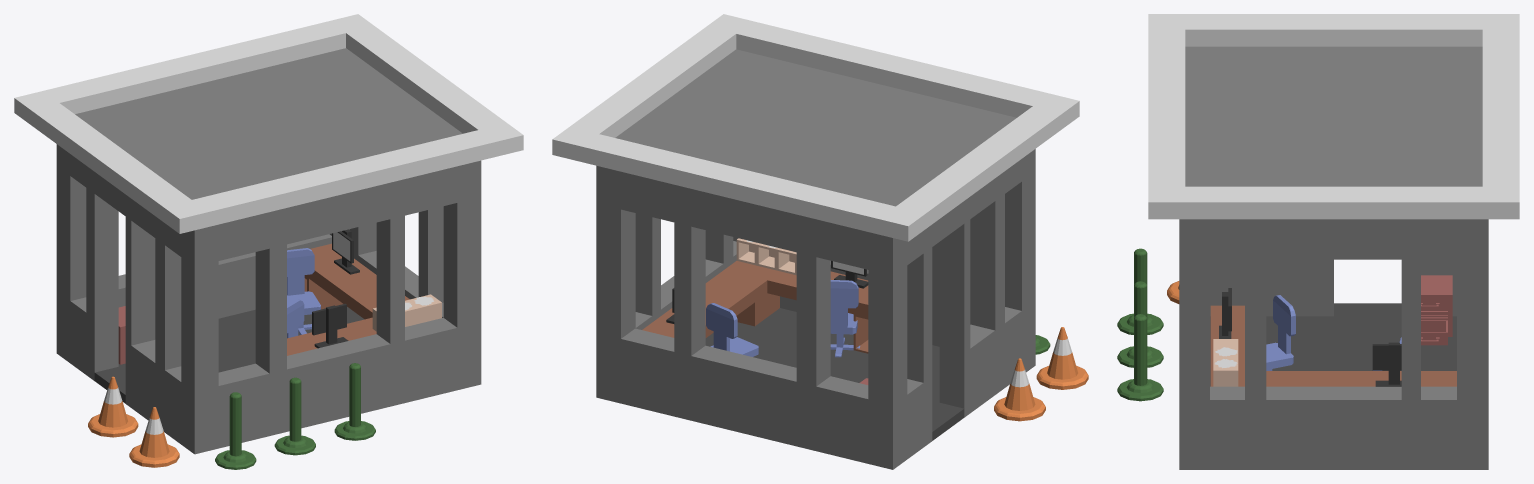
Rendered from Security_Booth 1.fbx.
3 views of the same model, side by side, from view 1: azimuth 30°, elevation 25°; view 2: azimuth 150°, elevation 25°; view 3: azimuth 270°, elevation 25° (orthographic). The views are drawn at different scales.
Parts seen in each view (by area): view 1: Shell, Roof, Desk, Floor, Chair1, Pylon1, Pylon, Security_Cones3, Security_Cones2, Security_Cones1, Computer.001, shelf (+2 smaller); view 2: Shell, Roof, Desk, Floor, Chair2, Pylon, Pylon1, Chair1, shelf; view 3: Shell, Roof, Floor, Desk, Drawer, Security_Cones1, Chair2, Computer, Security_Cones2, Security_Cones3, shelf, Computer.001.
Boxes of the visible parts, bbox=[...] form: Shell: bbox=[56, 48, 481, 454]; Roof: bbox=[14, 14, 523, 233]; Desk: bbox=[287, 243, 409, 355]; Floor: bbox=[94, 307, 364, 403]; Chair1: bbox=[287, 248, 320, 334]; Pylon1: bbox=[88, 376, 138, 437]; Pylon: bbox=[129, 407, 179, 467]; Security_Cones3: bbox=[215, 392, 256, 469]; Security_Cones2: bbox=[274, 377, 315, 455]; Security_Cones1: bbox=[334, 363, 375, 440]; Computer.001: bbox=[312, 303, 348, 348]; shelf: bbox=[372, 294, 441, 331]; Shell: bbox=[596, 49, 1035, 469]; Roof: bbox=[552, 14, 1079, 241]; Desk: bbox=[642, 261, 868, 353]; Floor: bbox=[705, 308, 964, 440]; Chair2: bbox=[830, 280, 860, 357]; Pylon: bbox=[1036, 327, 1088, 389]; Pylon1: bbox=[994, 358, 1045, 421]; Chair1: bbox=[706, 303, 758, 356]; shelf: bbox=[736, 238, 796, 275]; Shell: bbox=[1179, 46, 1488, 469]; Roof: bbox=[1148, 14, 1519, 219]; Floor: bbox=[1210, 303, 1456, 386]; Desk: bbox=[1210, 305, 1456, 386]; Drawer: bbox=[1421, 275, 1452, 345]; Security_Cones1: bbox=[1117, 314, 1163, 401]; Chair2: bbox=[1266, 295, 1295, 370]; Computer: bbox=[1372, 342, 1401, 386]; Security_Cones2: bbox=[1117, 281, 1163, 367]; Security_Cones3: bbox=[1117, 248, 1163, 334]; shelf: bbox=[1213, 339, 1238, 386]; Computer.001: bbox=[1219, 288, 1231, 338].
Bounding box in the file's own units: 1531 × 998 × 1284.
